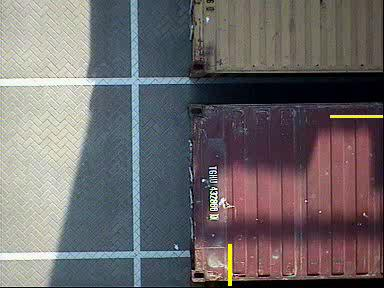groundmarker_2: (72, 58, 149, 115)
